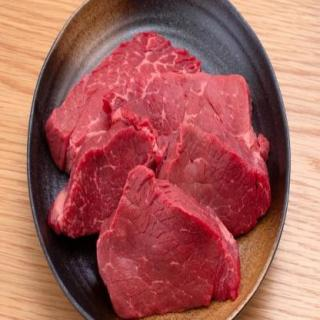Daging Sapi: (107, 75, 273, 239), (49, 37, 205, 173), (100, 169, 243, 316), (51, 121, 169, 236)
